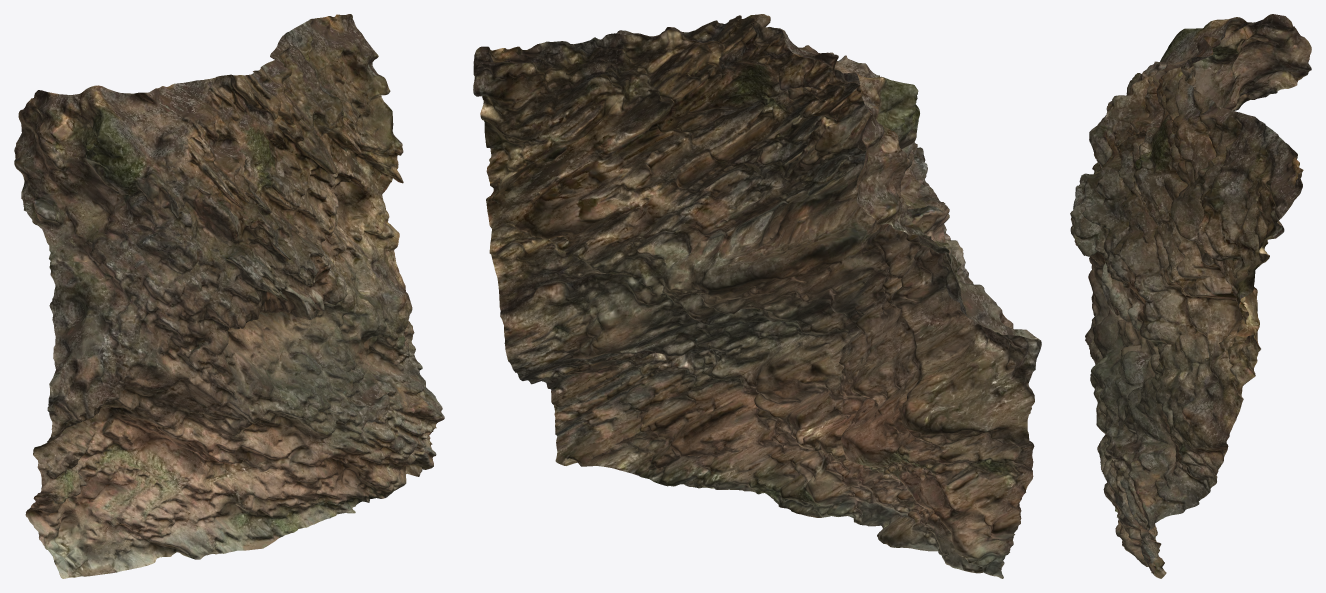
The model's file is mountainside-near.glb.
The picture shows the model from 3 angles, left to right: view 1: azimuth 30°, elevation 25°; view 2: azimuth 150°, elevation 25°; view 3: azimuth 270°, elevation 25°; orthographic projection. The views are drawn at different scales.
Visible parts, largest first — view 1: mountainside; view 2: mountainside; view 3: mountainside.
Part boxes in pixels (x1,y1,x2,y2): mountainside: (14,14,444,578); mountainside: (473,14,1041,578); mountainside: (1070,14,1311,578).
Size of the model in its own units: 10.21 by 10.52 by 5.25.
Materials: 1 (1 with a texture image).
